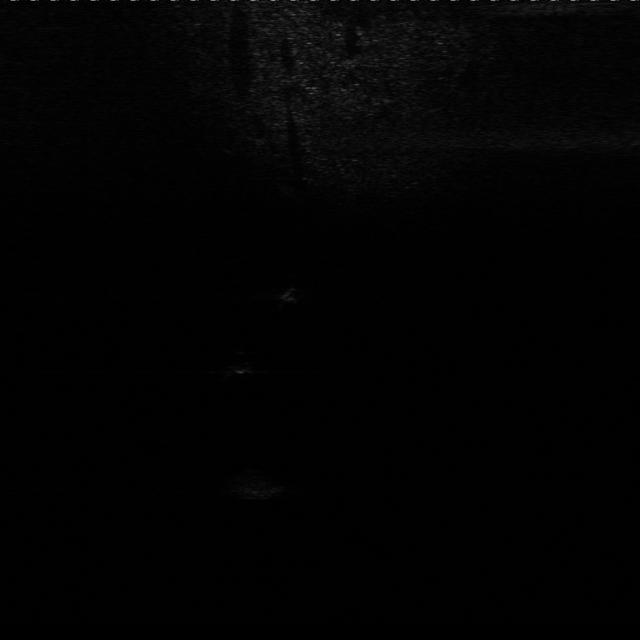ball: (226, 350, 256, 376)
circle cage: (237, 478, 287, 506)
human body: (274, 284, 312, 304)
